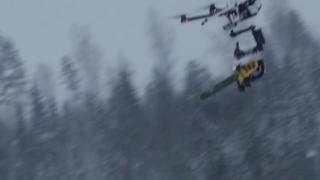UAV: (168, 0, 262, 32)
